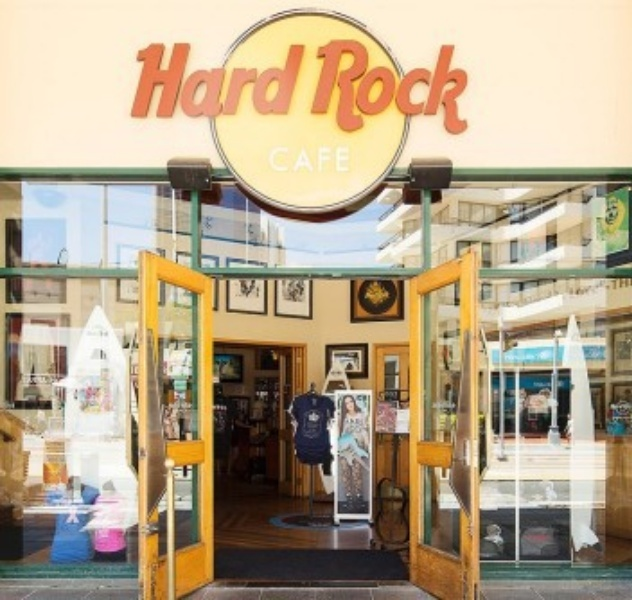text: (321, 36, 336, 135), (337, 36, 352, 135), (353, 36, 368, 135), (369, 36, 384, 135), (385, 36, 400, 135), (401, 36, 416, 135), (417, 36, 432, 135), (433, 36, 448, 135), (449, 36, 464, 135), (145, 42, 160, 121), (161, 42, 176, 121), (177, 42, 192, 121), (193, 42, 208, 121), (209, 42, 224, 121), (225, 42, 240, 121), (241, 42, 256, 121), (257, 42, 272, 121), (273, 42, 288, 121), (289, 42, 304, 121), (273, 146, 288, 173), (289, 146, 304, 173), (305, 146, 320, 173), (321, 146, 336, 173), (465, 36, 469, 135), (139, 42, 144, 121), (337, 146, 351, 173), (318, 36, 320, 135), (305, 42, 306, 121), (270, 146, 272, 173)
